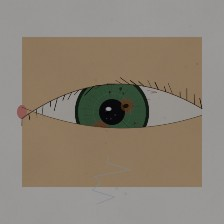foreign_body_visible: (112, 95, 140, 117)
